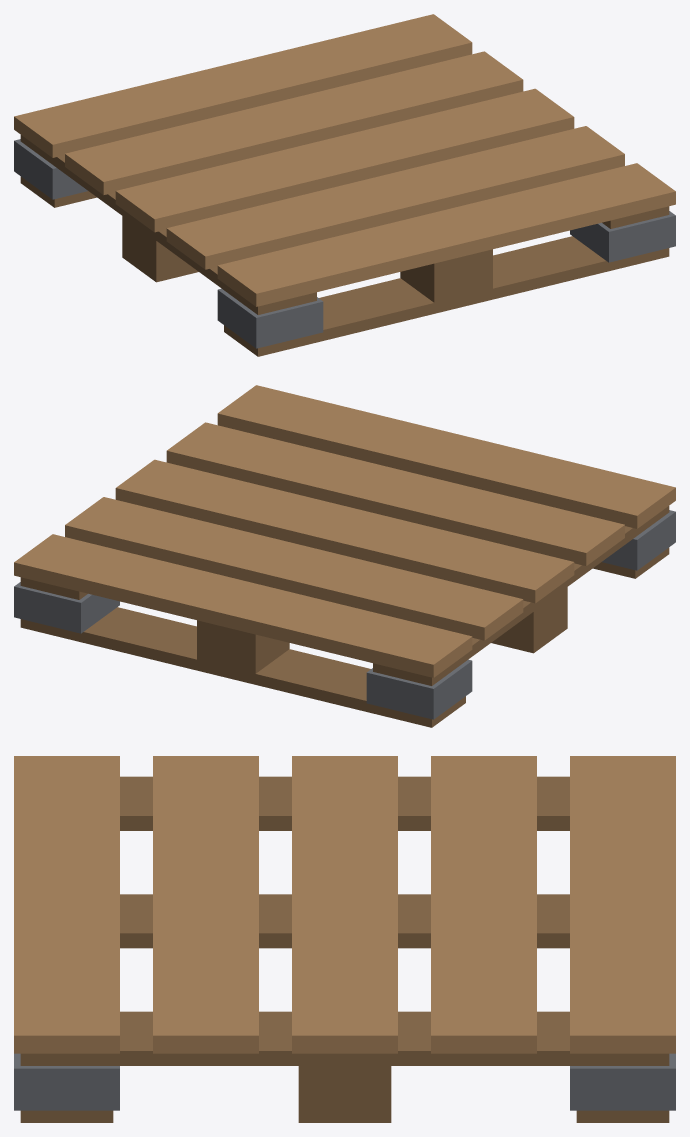
Rendered from pallet_01.glb.
The picture shows the model from 3 angles, top to bottom: view 1: azimuth 30°, elevation 25°; view 2: azimuth 150°, elevation 25°; view 3: azimuth 270°, elevation 25°; orthographic projection. The views are drawn at different scales.
Visible parts, largest first — view 1: Pallet_01; view 2: Pallet_01; view 3: Pallet_01.
Boxes of the visible parts, x1,y1,x2,y2 form: Pallet_01: (14, 14, 675, 356); Pallet_01: (14, 385, 675, 727); Pallet_01: (14, 756, 675, 1122).
Bounding box in the file's own units: 1 × 0.15 × 1.
